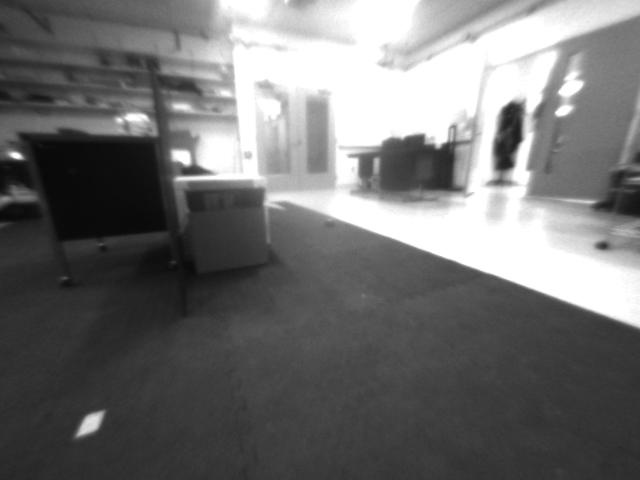dogtoy: (314, 212, 344, 234)
